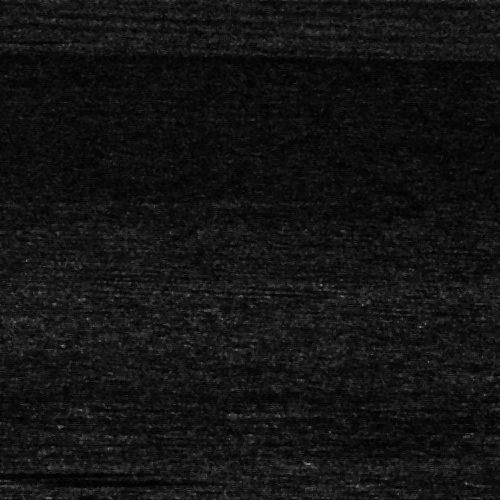object: (0, 478, 48, 485), (0, 36, 23, 41)
shadow: (1, 478, 148, 485), (0, 468, 64, 477), (0, 495, 109, 500), (0, 36, 40, 41)
